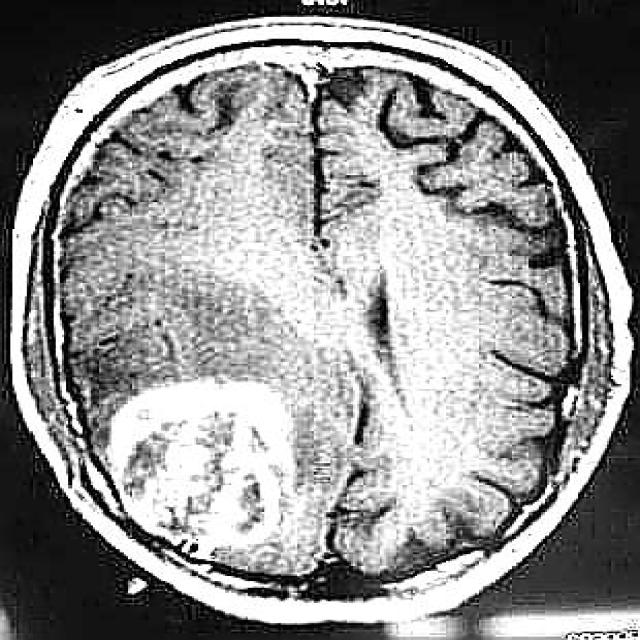Tumor-Cell: (113, 351, 297, 538)
